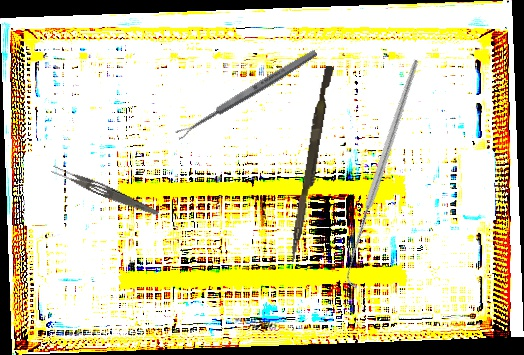Dressing Forceps: (49, 162, 162, 219)
Hook Surgical: (265, 56, 505, 291)
Pusher: (289, 64, 334, 264)
Surgical Spoon: (174, 47, 319, 141)
